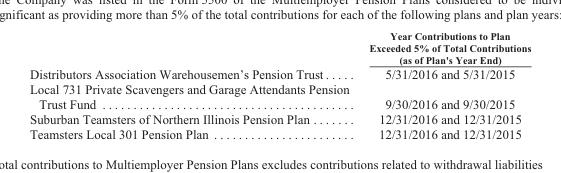table: (28, 28, 530, 141)
table column: (28, 28, 358, 141), (358, 28, 530, 141)
table column header: (28, 28, 530, 65)
table row: (28, 28, 530, 65), (28, 81, 530, 111), (28, 65, 530, 81), (28, 125, 530, 141), (28, 111, 530, 125)
